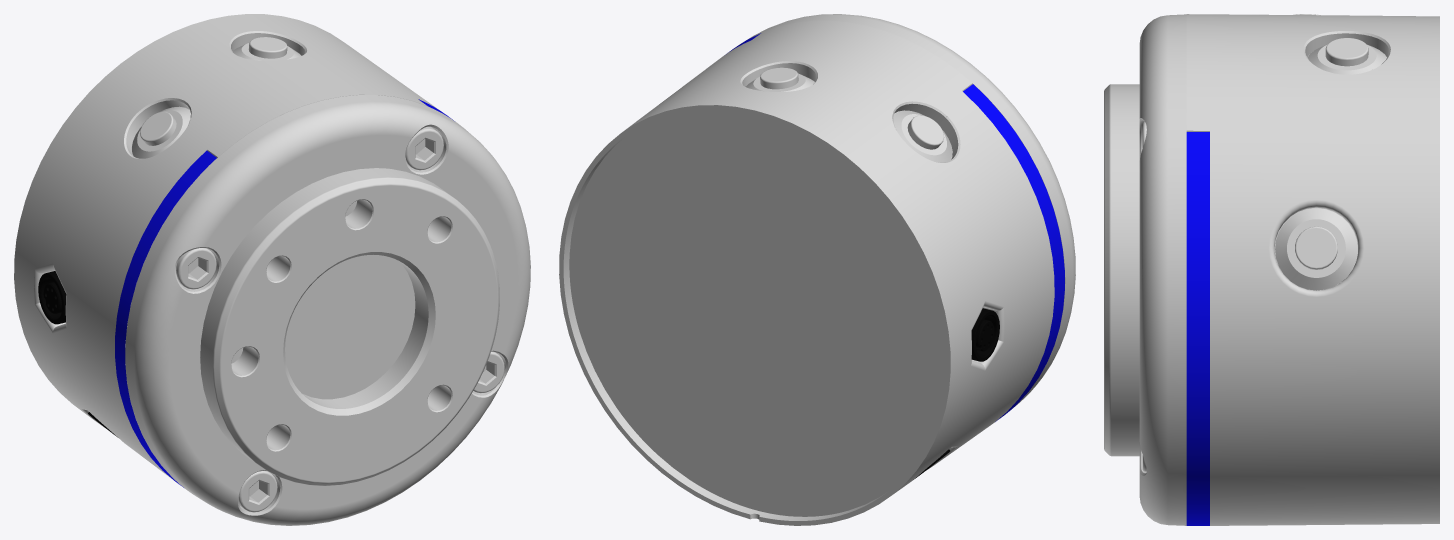
File: tmr_iox.obj
3 views of the same model, side by side, from view 1: azimuth 30°, elevation 25°; view 2: azimuth 150°, elevation 25°; view 3: azimuth 270°, elevation 25° (orthographic). The views are drawn at different scales.
Parts seen in each view (by area): view 1: 222, 2, 96, 240, 14, 12, 16, 20, 18, 22, 24, 26 (+11 smaller); view 2: 222, 2, 96, 240, 14, 12, 16, 20, 18, 22, 24, 26 (+13 smaller); view 3: 222, 2, 166, 210, 162, 158, 154, 150, 176, 146, 142, 170 (+43 smaller).
Part boxes in pixels (<box>): 222: <box>34,14,530,525</box>; 2: <box>15,25,340,375</box>; 96: <box>14,15,337,422</box>; 240: <box>124,100,190,158</box>; 14: <box>51,125,163,198</box>; 12: <box>53,144,163,216</box>; 16: <box>42,162,151,236</box>; 20: <box>33,181,141,255</box>; 18: <box>41,143,150,216</box>; 22: <box>32,162,140,235</box>; 24: <box>26,201,132,275</box>; 26: <box>25,181,131,255</box>; 222: <box>559,14,1075,520</box>; 2: <box>774,22,1054,407</box>; 96: <box>736,23,978,525</box>; 240: <box>893,103,959,162</box>; 14: <box>902,140,1005,233</box>; 12: <box>914,140,1017,233</box>; 16: <box>925,159,1027,251</box>; 20: <box>933,178,1036,271</box>; 18: <box>914,159,1016,252</box>; 22: <box>924,178,1026,271</box>; 24: <box>940,197,1043,290</box>; 26: <box>932,198,1035,291</box>; 222: <box>1104,14,1439,525</box>; 2: <box>1186,14,1439,48</box>; 166: <box>1210,332,1439,363</box>; 210: <box>1210,154,1439,199</box>; 162: <box>1210,355,1439,385</box>; 158: <box>1210,378,1439,406</box>; 154: <box>1210,400,1439,425</box>; 150: <box>1210,420,1439,444</box>; 176: <box>1212,294,1439,317</box>; 146: <box>1210,439,1439,460</box>; 142: <box>1210,457,1439,475</box>; 170: <box>1210,318,1439,340</box>.
Bounding box in the file's own units: 0.0867 × 0.0869 × 0.0569.
